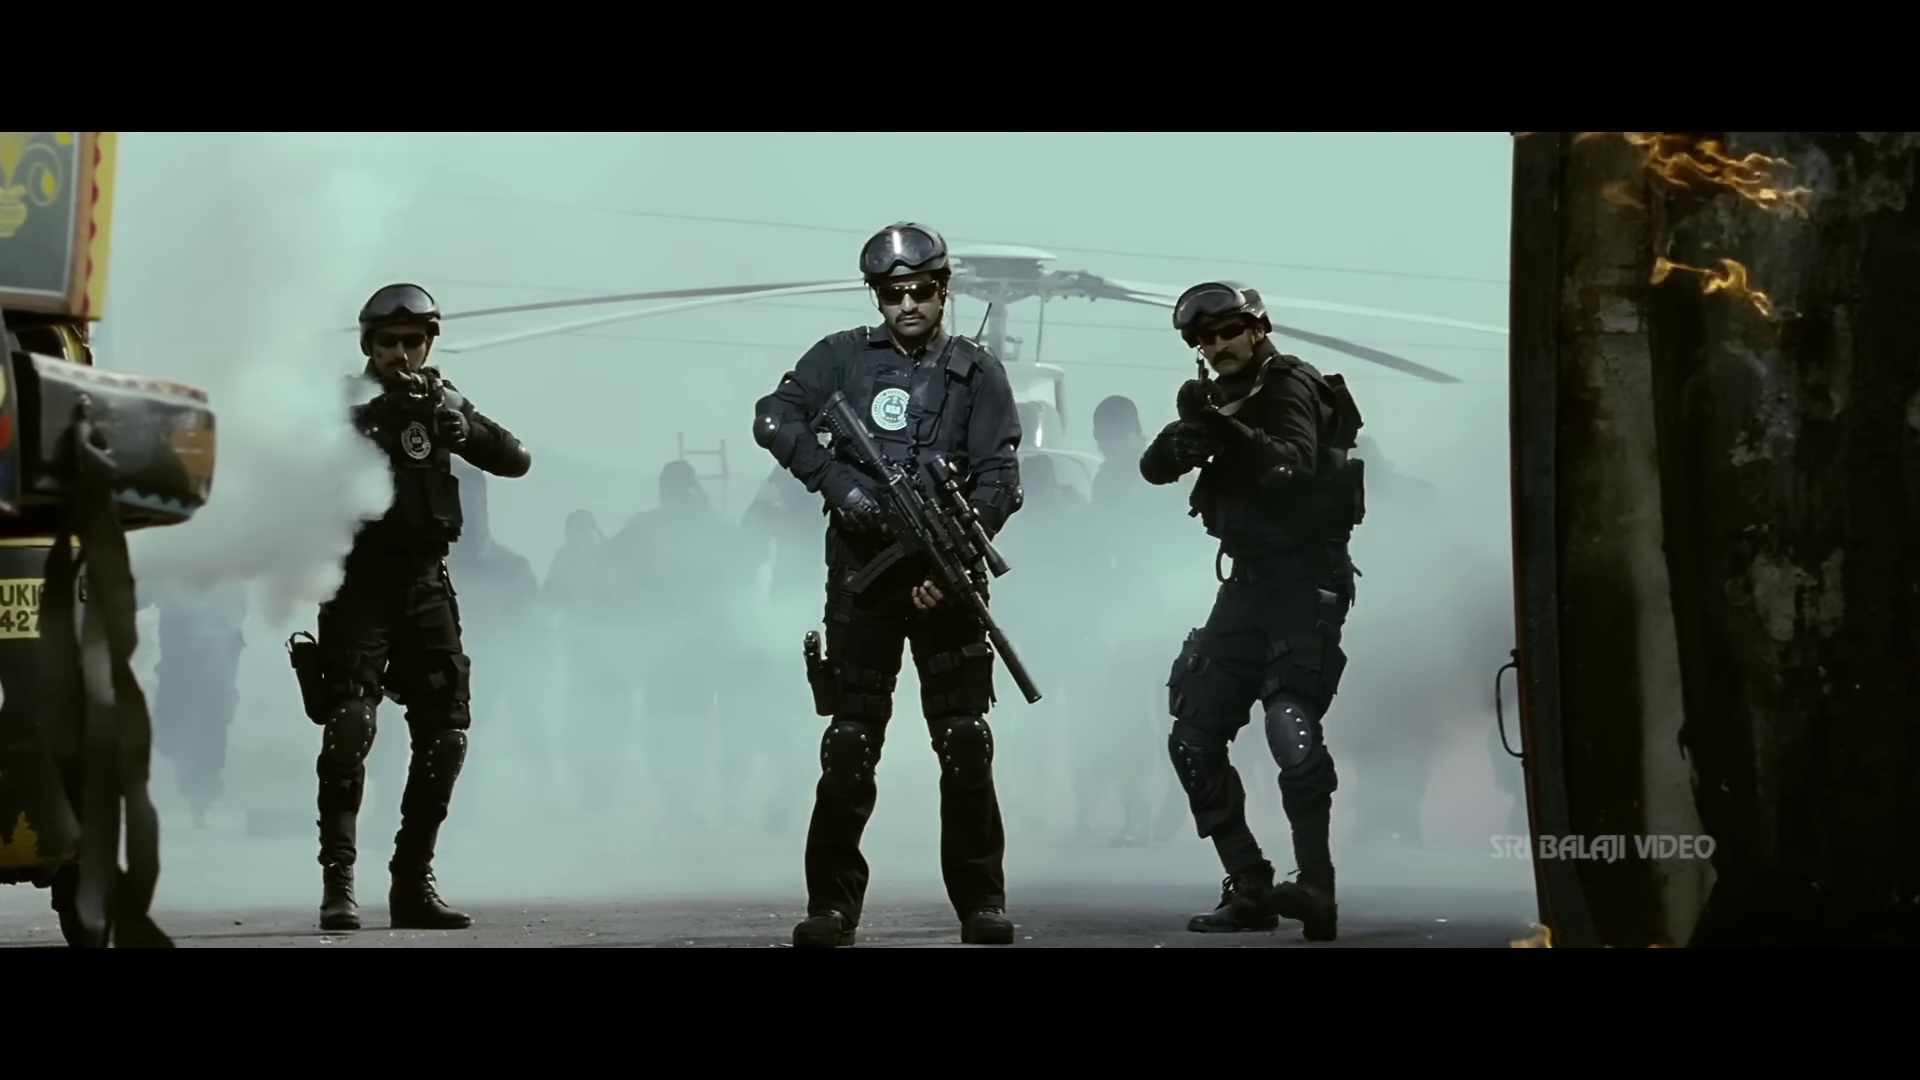gun: (795, 389, 1038, 715), (377, 359, 476, 448), (1178, 351, 1222, 444)
p_w_gun: (752, 220, 1043, 945), (281, 280, 529, 936), (1135, 274, 1371, 938)
